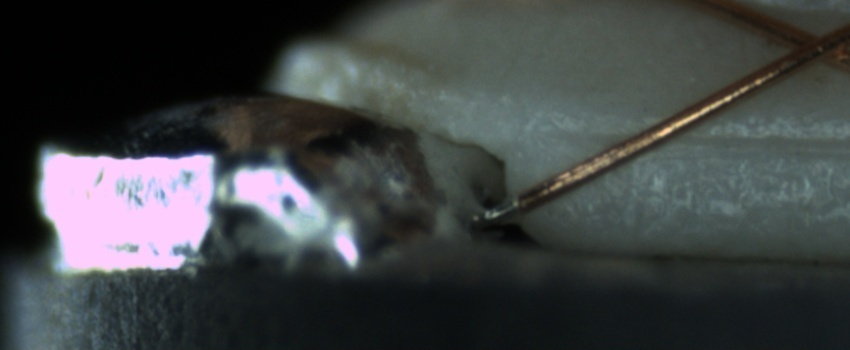CL: (767, 14, 847, 74)
DL: (548, 107, 845, 171)
TS: (477, 196, 522, 223)
